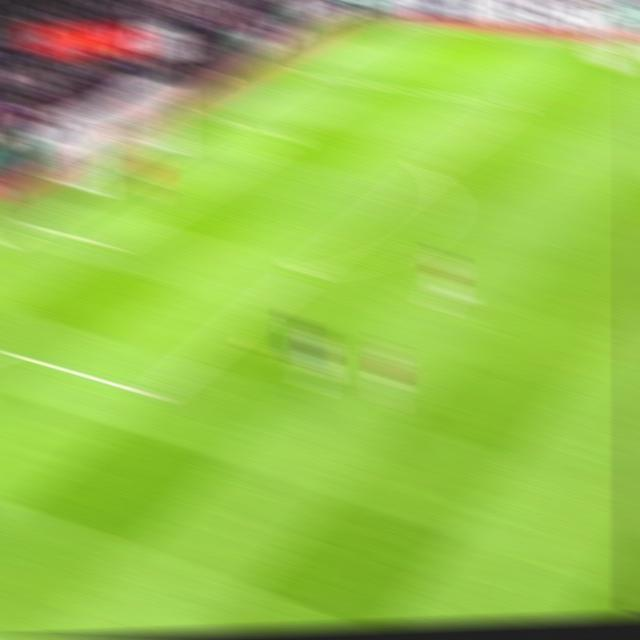bigarea_bottom_inner: (136, 379, 169, 410)
bigarea_top_inner: (497, 92, 526, 117)
bigarea_top_outter: (292, 62, 320, 84)
bottom_arc_area_intersection: (289, 260, 319, 284)
corner: (379, 14, 409, 33)
smallarea_bottom_inner: (97, 229, 127, 259)
smallarea_bottom_outter: (16, 210, 50, 241)
smallarea_top_inner: (272, 122, 302, 147)
smallarea_top_outter: (206, 109, 238, 134)
top_arc_area_intersection: (415, 159, 444, 182)
